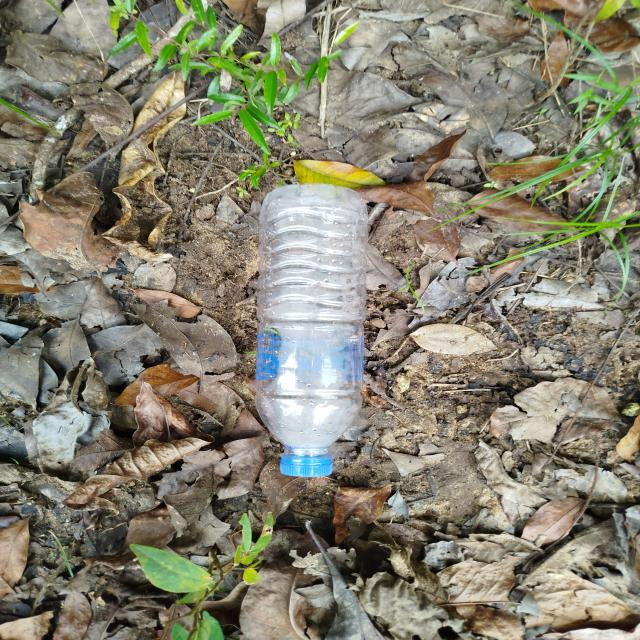plastic: (241, 170, 385, 489)
